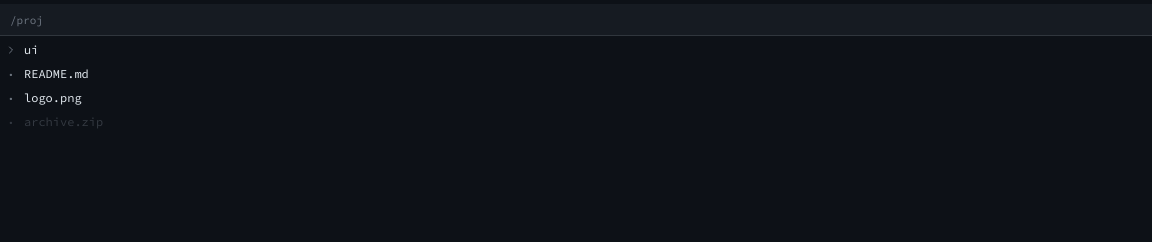
Test case: FileTree — reveal active file › propagates manual expansion state through already-rendered ancestors
This screenshot has width=1152, height=242.
Click the button "ui" at (22, 49), box x1=5 y1=42 x2=38 y2=57
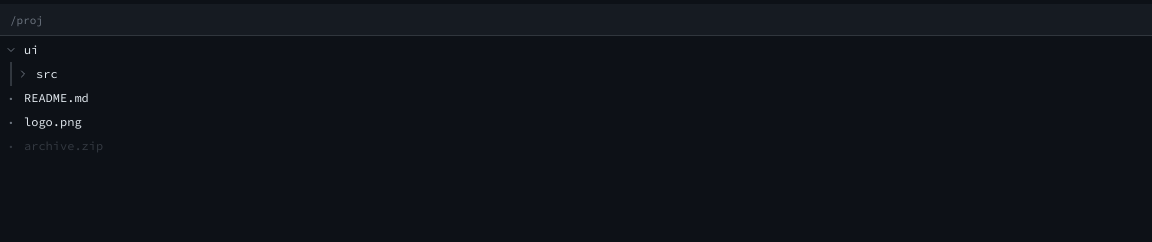
Click the button "src" at (37, 73), box x1=17 y1=66 x2=58 y2=81
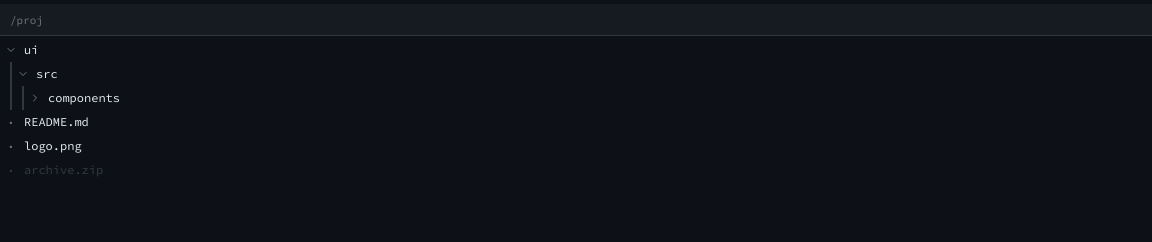
Click the button "components" at (74, 97), box x1=29 y1=90 x2=120 y2=105
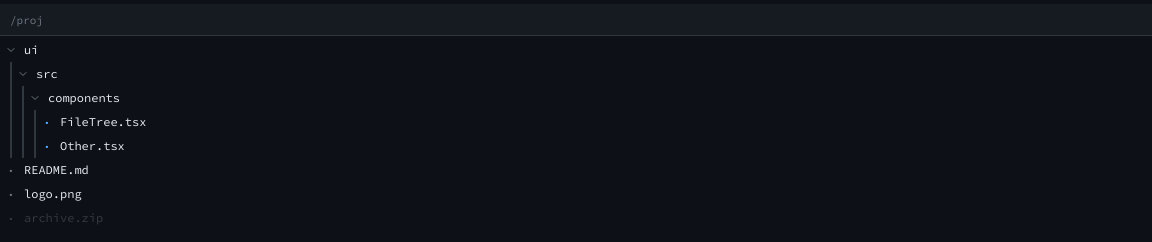
Check: the text "FileTree.tsx" is shown, box x1=60 y1=114 x2=146 y2=129
Check: the text "Other.tsx" is shown, box x1=60 y1=138 x2=125 y2=153
